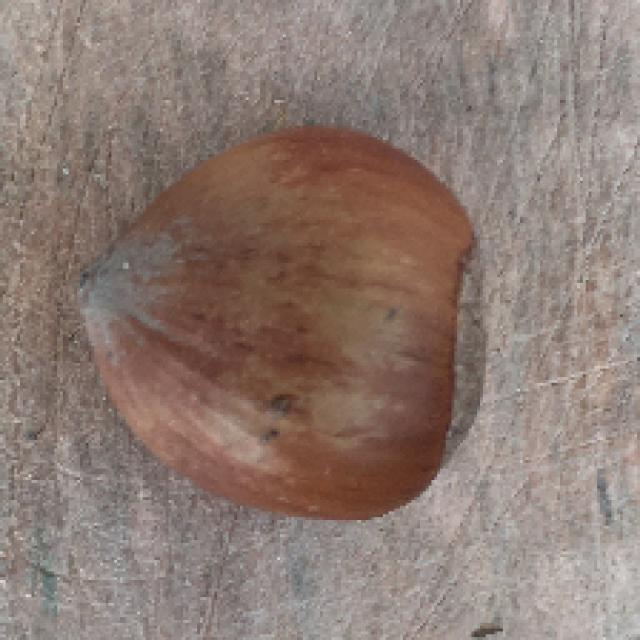DamagedHazelnut: (77, 125, 485, 526)
